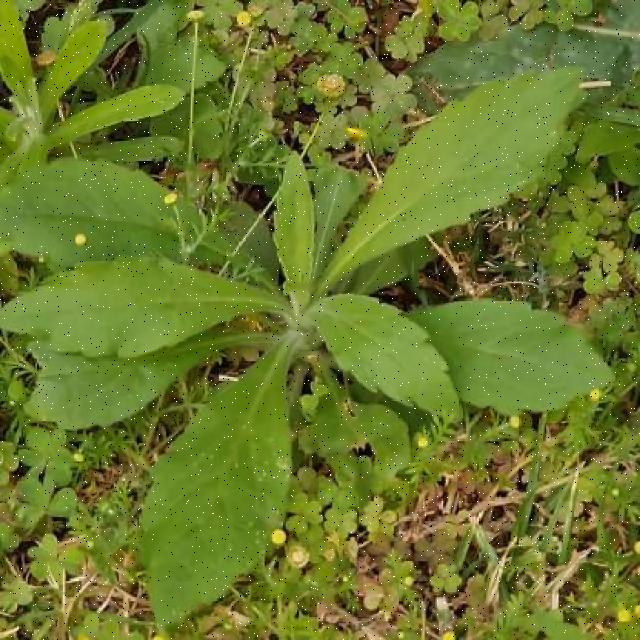weed: (0, 71, 609, 625)
